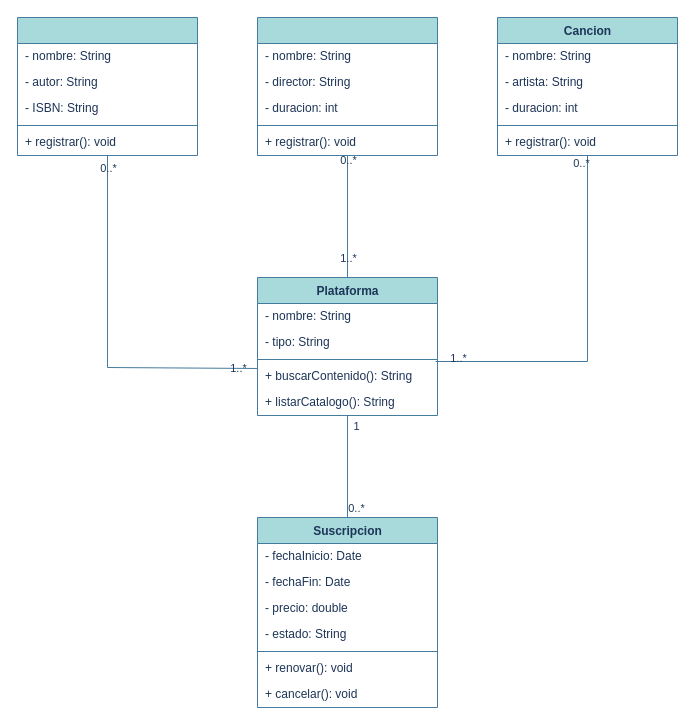
This 695x725 diagram has some shape labels left out. The box of each missing label's shape, as (x1, y1, x2, y2) in pixels:
Libro: (16, 16, 198, 156)
Pelicula: (256, 16, 438, 156)
